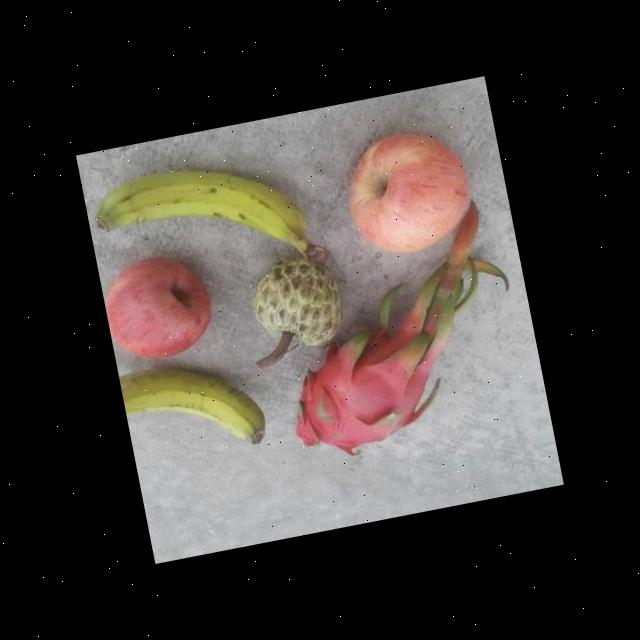Sakya fruit: (244, 248, 352, 358)
apple: (336, 124, 479, 264), (99, 251, 222, 371)
banana: (85, 144, 314, 281), (118, 348, 276, 470)
pitaya: (285, 326, 447, 464)
